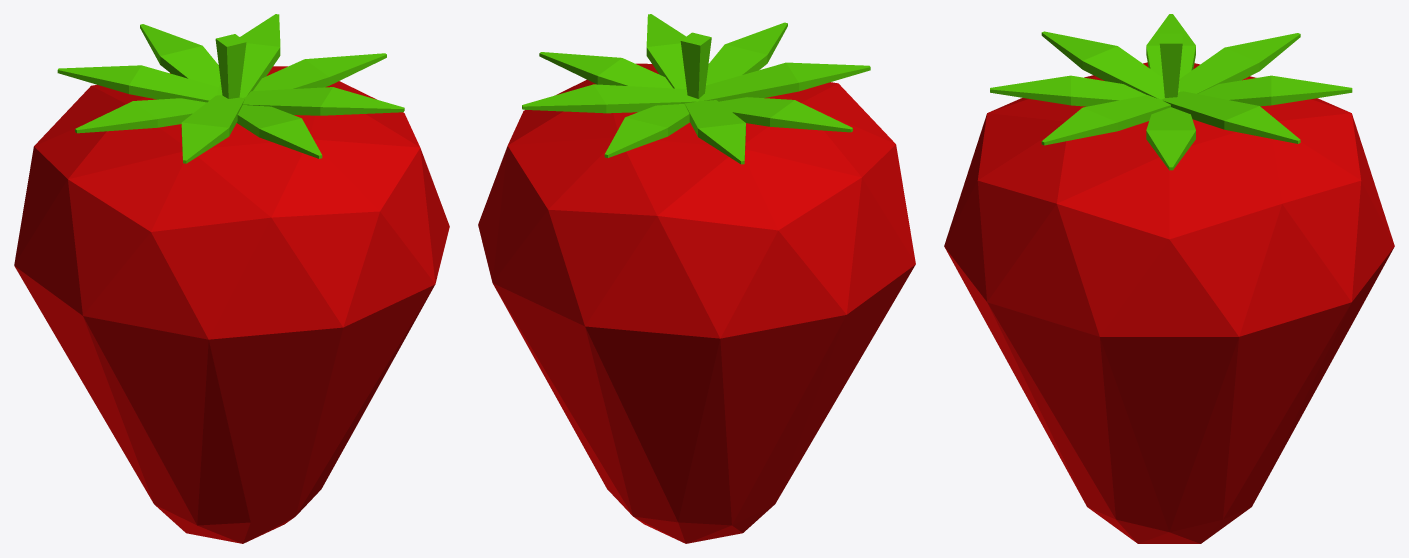
The model's file is strawberry.fbx.
3 renders of one model, left to right at view 1: azimuth 30°, elevation 25°; view 2: azimuth 150°, elevation 25°; view 3: azimuth 270°, elevation 25°, orthographic.
Visible parts, largest first — view 1: strawberry, stalk; view 2: strawberry, stalk; view 3: strawberry, stalk.
Part boxes in pixels (x1,y1,x2,y2): strawberry: (14, 66, 449, 543); stalk: (57, 14, 404, 163); strawberry: (478, 63, 915, 543); stalk: (522, 14, 870, 164); strawberry: (944, 62, 1394, 543); stalk: (990, 14, 1352, 170).
Size of the model in its own units: 2.14 by 2.75 by 2.25.
